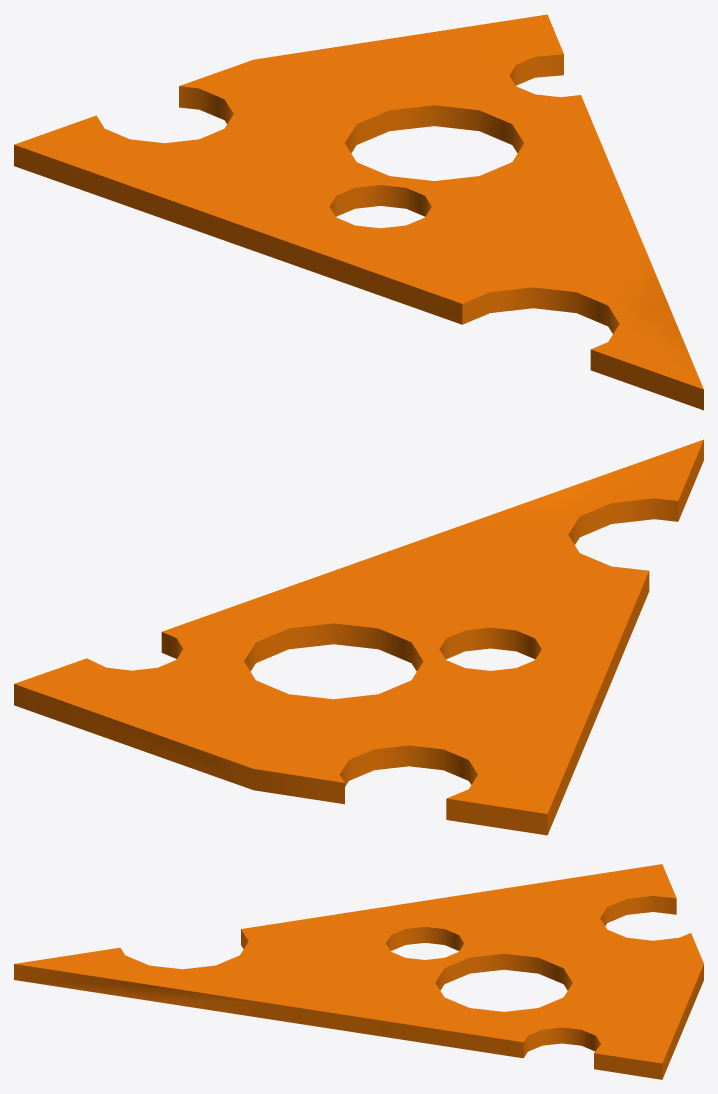
The model's file is Сheese_01.fbx.
3 renders of one model, top to bottom at view 1: azimuth 30°, elevation 25°; view 2: azimuth 150°, elevation 25°; view 3: azimuth 270°, elevation 25°, orthographic. The views are drawn at different scales.
Visible parts, largest first — view 1: Сheese_01; view 2: Сheese_01; view 3: Сheese_01.
Part boxes in pixels (x1,y1,x2,y2): Сheese_01: (14,14,703,410); Сheese_01: (14,439,703,835); Сheese_01: (14,864,703,1079).
Bounding box in the file's own units: 74.98 × 110 × 2.88.
